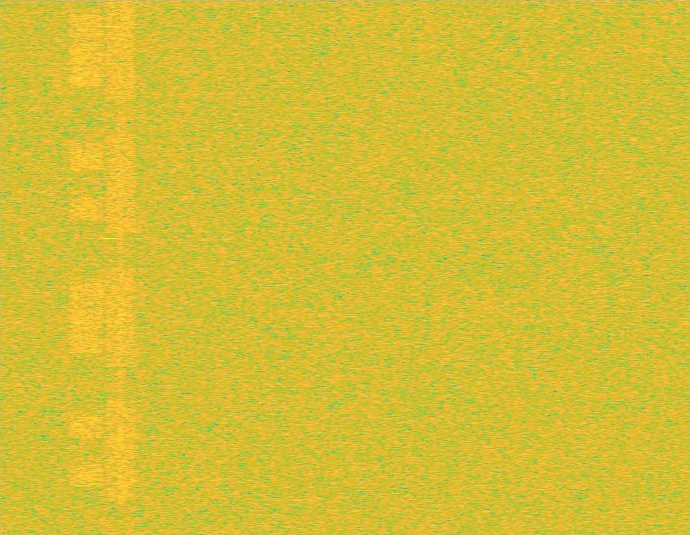5G: (104, 0, 138, 534)
DSSS: (117, 0, 125, 534)
LTE: (69, 0, 104, 534)
Radar: (103, 0, 117, 534)
